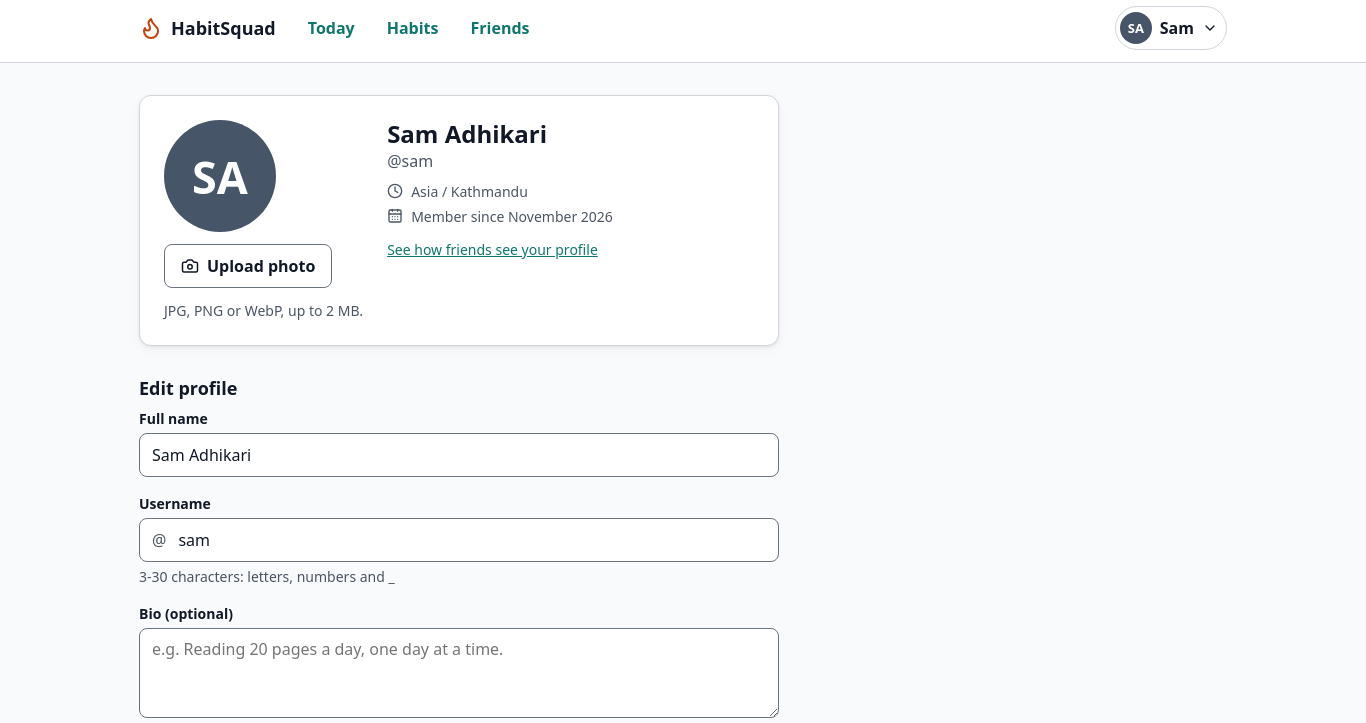
ProfilePage › shows the backend's error under the right field
Check: the heading "Sam Adhikari" is shown, box x1=387 y1=117 x2=547 y2=150
Replace the text in the field labelled "Username" with "taken_name": (472,540) x1=166 y1=520 x2=778 y2=560
(page scrolled)
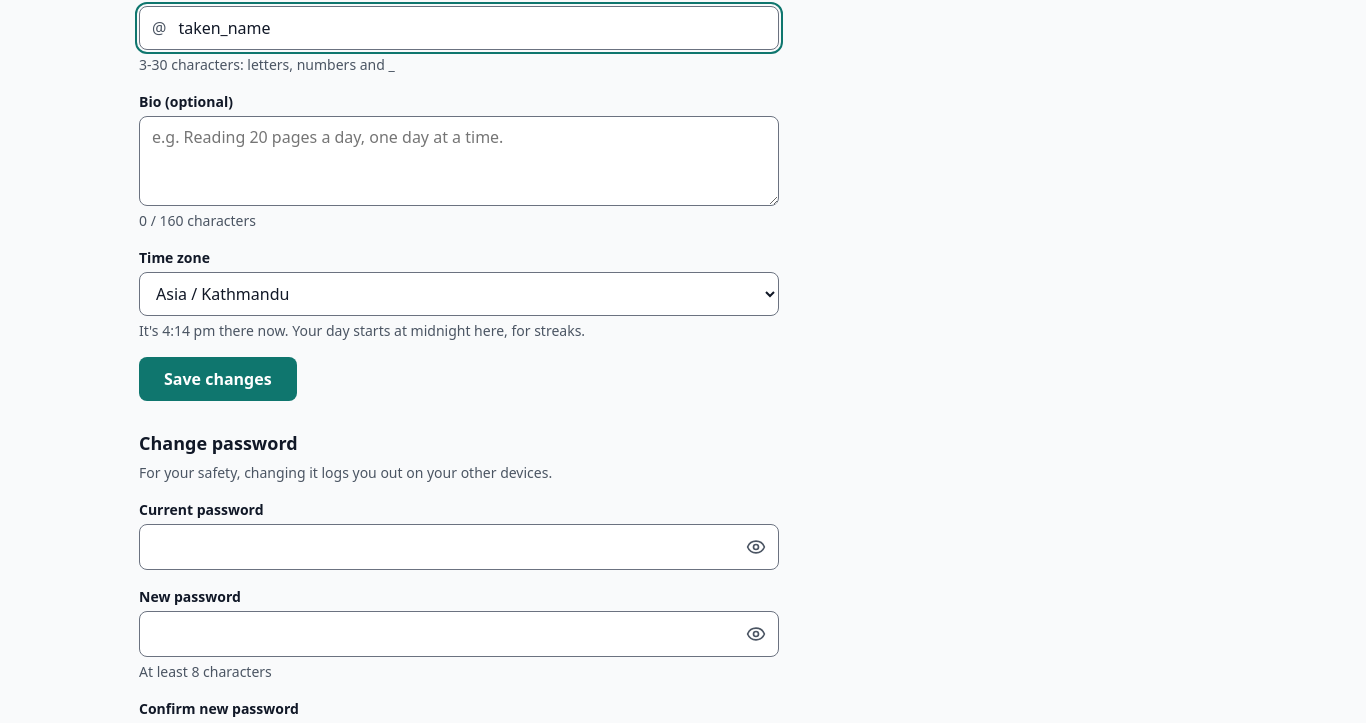
Click the button "Save changes": (218,379) x1=139 y1=357 x2=297 y2=401
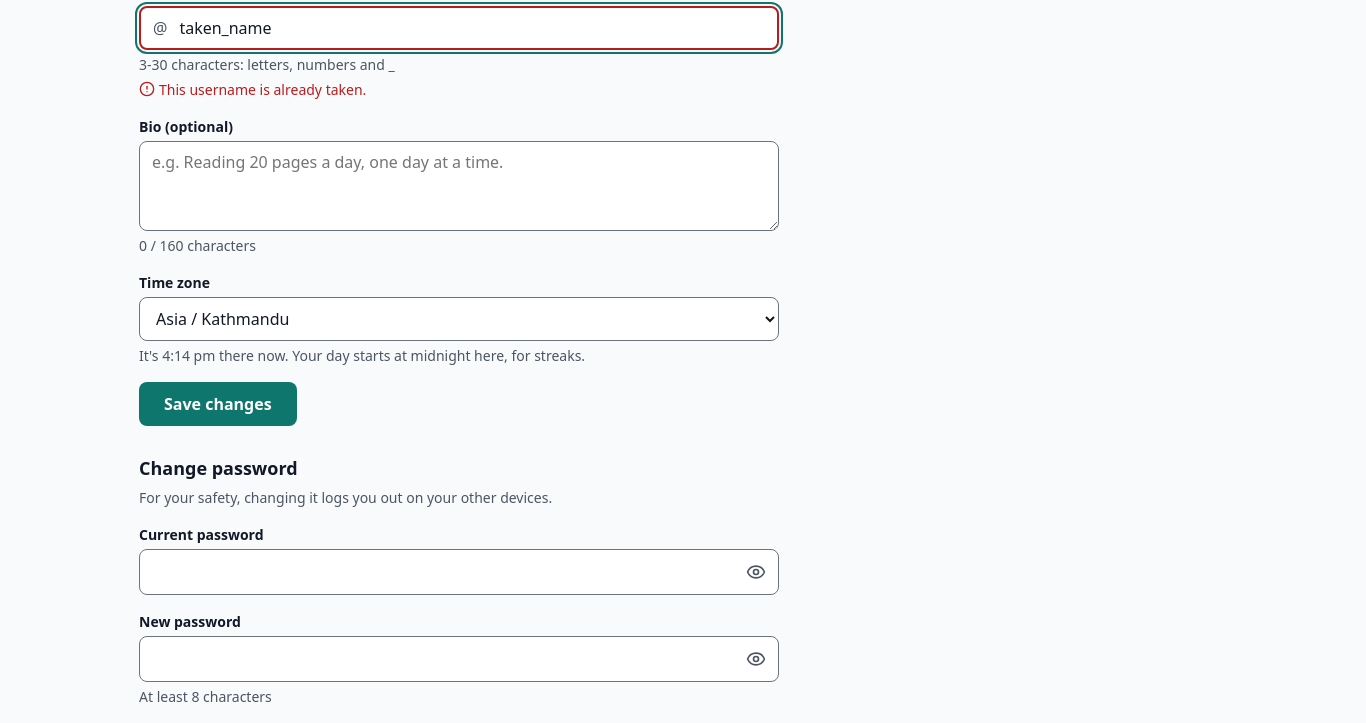
Check: the text "This username is already taken." is shown, box x1=139 y1=80 x2=366 y2=99
